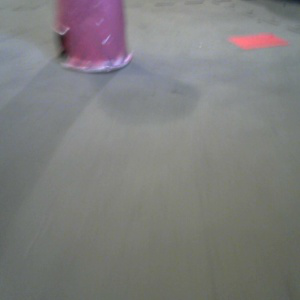right: (44, 1, 138, 79)
